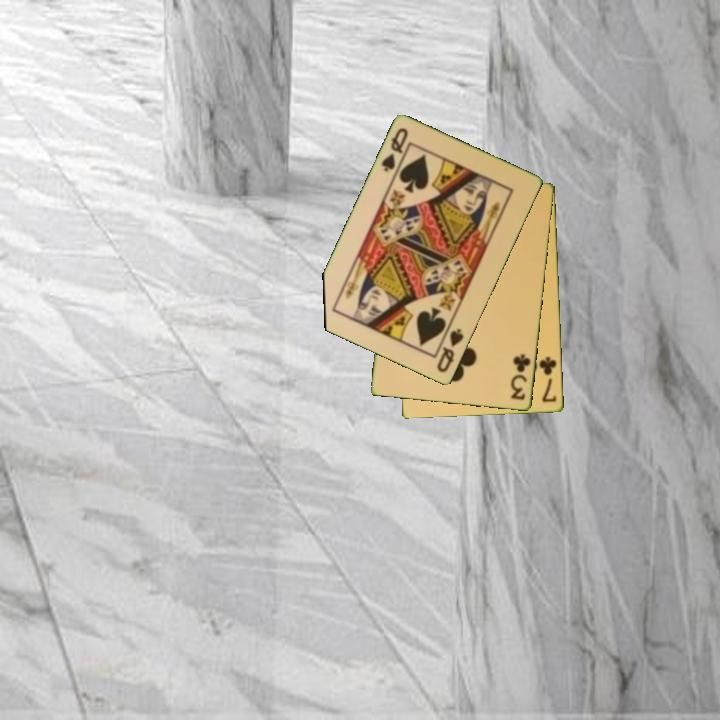3c: (508, 351, 533, 403)
7c: (536, 353, 559, 405)
Qs: (378, 124, 412, 178), (433, 325, 467, 376)
